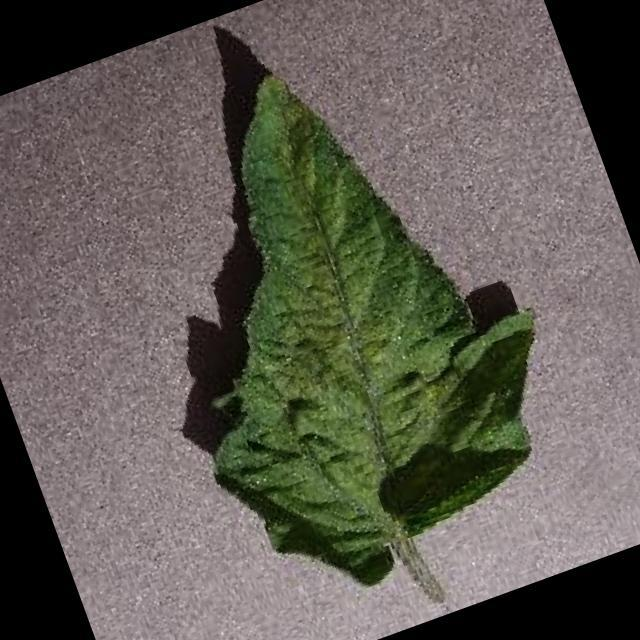Tomato spider mites leaf: (86, 9, 604, 626)
